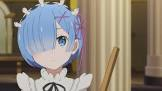rem: (12, 1, 93, 90)
